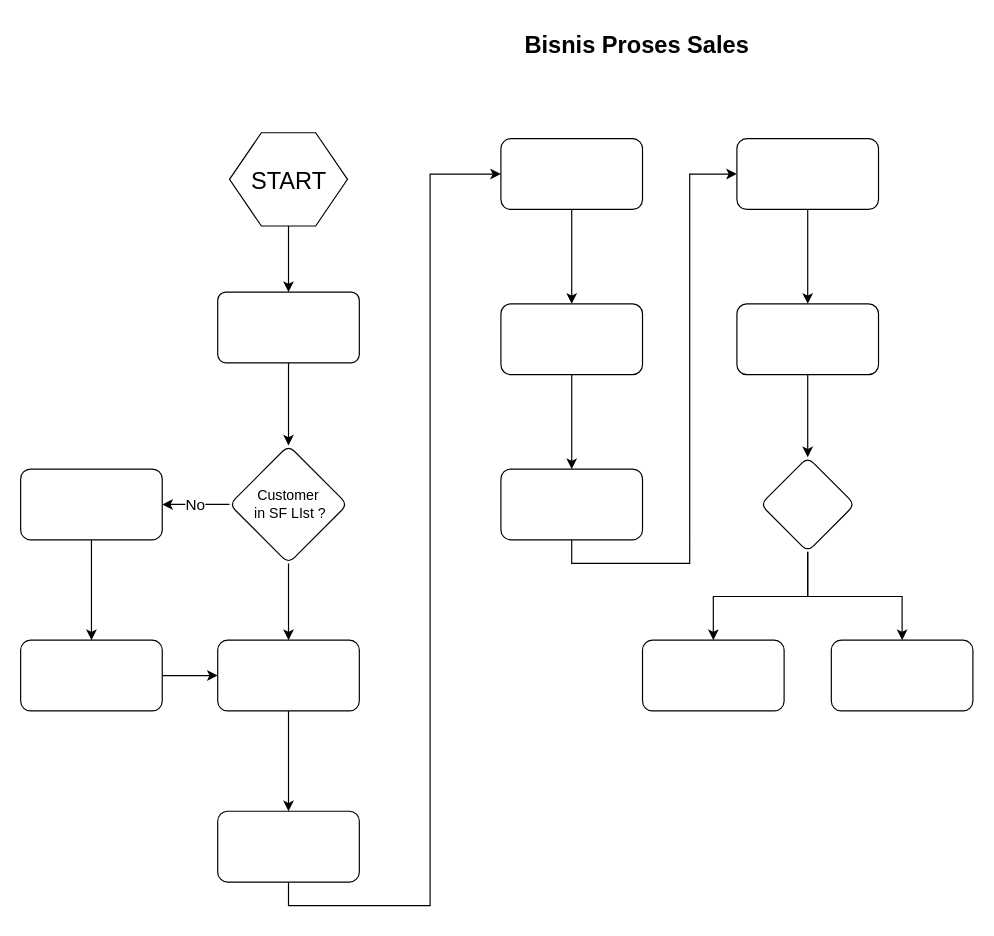
This 994x936 diagram has some shape labels left out. Each missing label, with the centre of its shape:
"Create new Lead & Request Sales Admin for Approval" belongs at [90,504].
"Receive Enquiry from Customer" belongs at [288,327].
